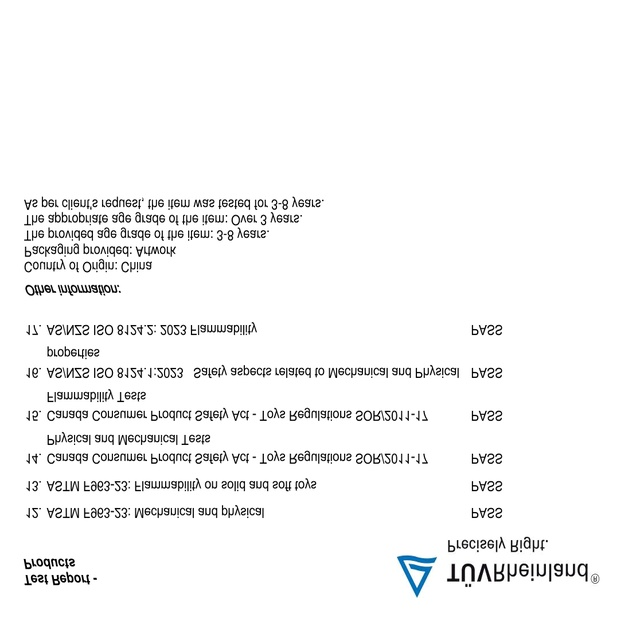tuv_rheinland: (394, 553, 603, 601)
